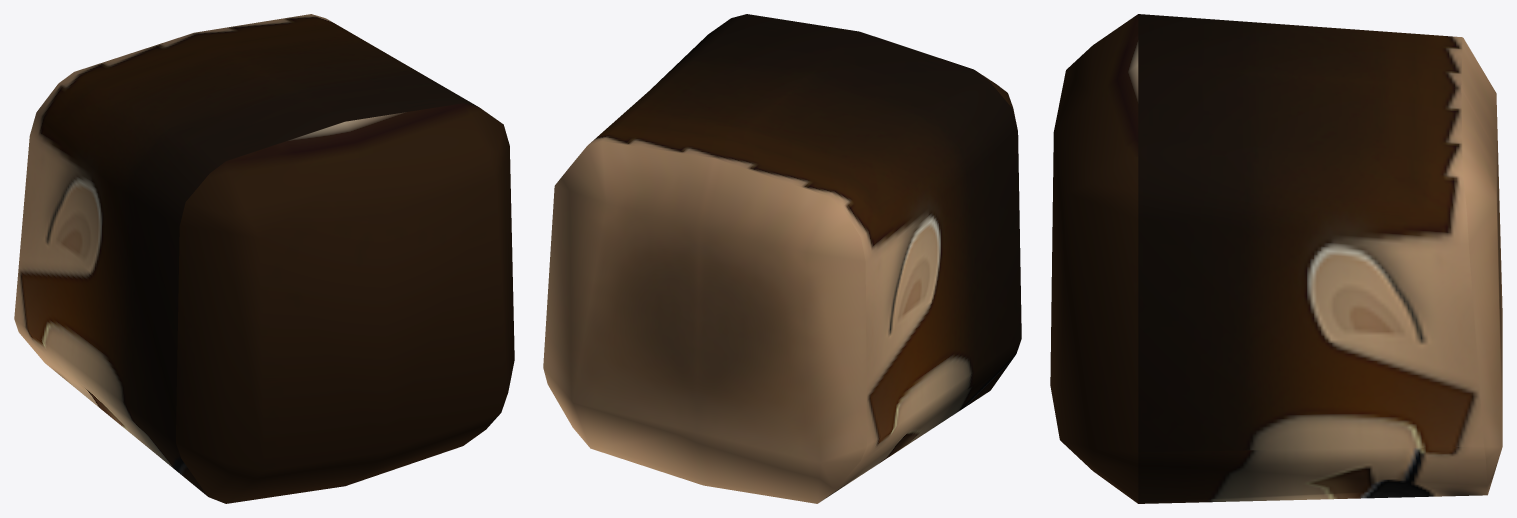
File: Avatar_Cowboy_H_Head_725cbb6b__Avatar_Cowboy_B_f976495f_c1f257.obj
The picture shows the model from 3 angles, left to right: view 1: azimuth 30°, elevation 25°; view 2: azimuth 150°, elevation 25°; view 3: azimuth 270°, elevation 25°; orthographic projection. The views are drawn at different scales.
Bounding box in the file's own units: 0.6857 × 0.7049 × 0.7416.
Materials: 1 (1 with a texture image).
